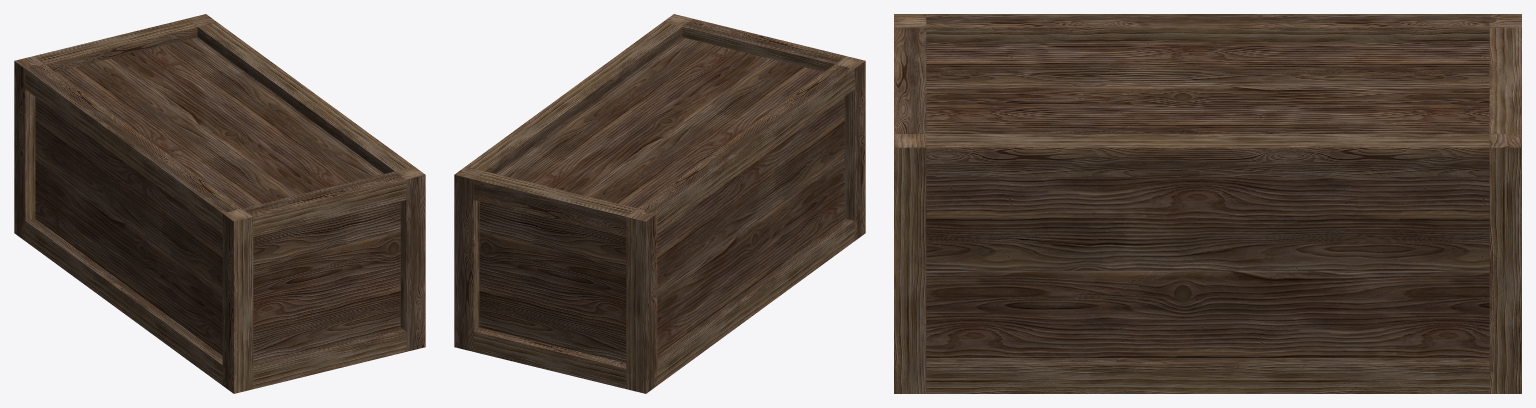
Rendered from storage_box_03.fbx.
3 renders of one model, left to right at view 1: azimuth 30°, elevation 25°; view 2: azimuth 150°, elevation 25°; view 3: azimuth 270°, elevation 25°, orthographic. The views are drawn at different scales.
Parts seen in each view (by area): view 1: storage_box_03; view 2: storage_box_03; view 3: storage_box_03.
Part boxes in pixels (x1,y1,x2,y2): storage_box_03: [14, 14, 425, 393]; storage_box_03: [454, 14, 865, 393]; storage_box_03: [894, 14, 1521, 393].
Bounding box in the file's own units: 59.46 × 51.03 × 118.
